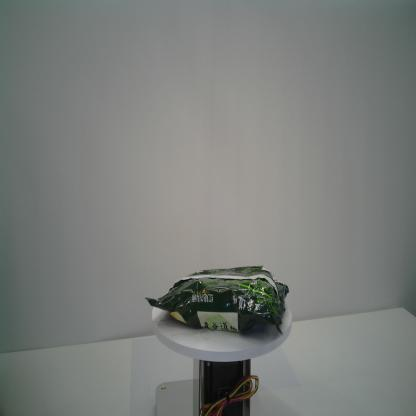Instant Noodles: (142, 262, 290, 344)
